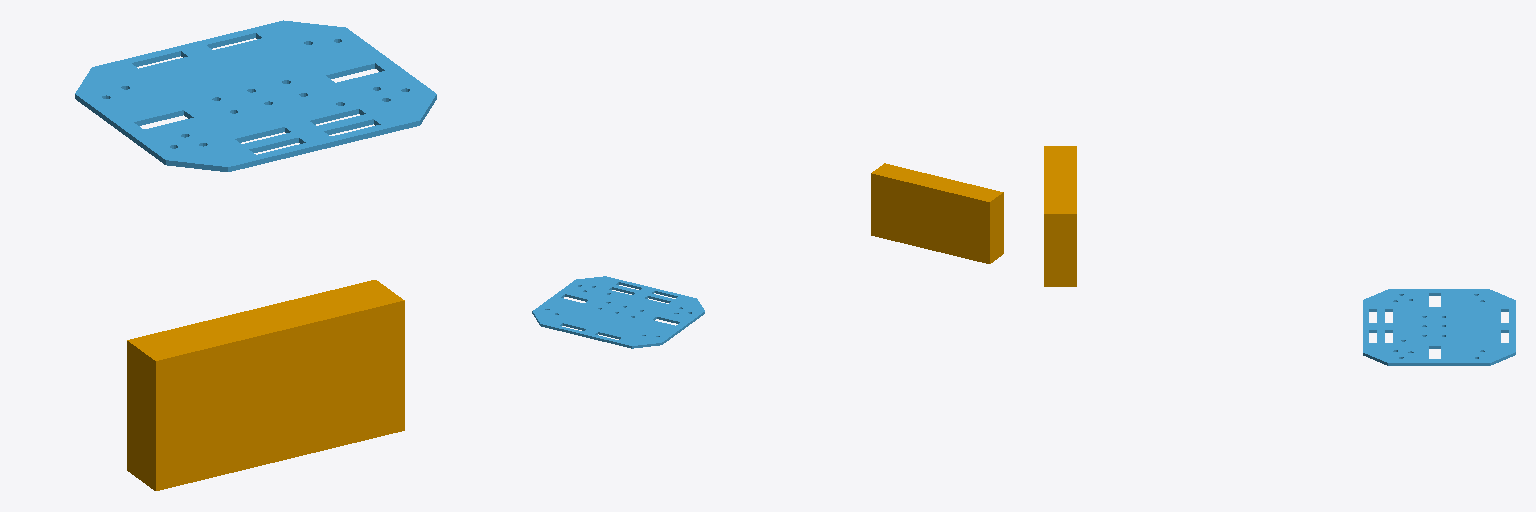
The robot description file, URDF, robot "bipedal":
<?xml version="1.0" ?>
<robot name="bipedal">

<material name="silver">
  <color rgba="0.700 0.700 0.700 1.000"/>
</material>

<material name="blue">
  <color rgba="0.700 0.100 0.700 1.000"/>
</material>

<link name="base_box">
  <inertial>
    
    <!--origin xyz="-0.07139043603557767 -0.16954551899156534 0.300032870177832" rpy="0 0 0"/-->
    <mass value="4"/>
    <inertia ixx="0.0108" ixy="0" ixz="0" iyy="0.0083" iyz="0" izz="0.0042"/>
     <!--inertia ixx="0.0021" ixy="0" ixz="0" iyy="0.0021" iyz="0" izz="0.0017"/-->
  </inertial>
  <visual>
    <origin xyz="0 -0 0" rpy="0 0 0"/>
    <geometry>
      <box size=".1 .02 .05"/>
    </geometry>
    <material name="silver"/>
    <material/>
  </visual>
  <collision>
    <origin xyz="0 -0 0" rpy="0 0 0"/>
    <geometry>
      <box size=".1 .02 .05"/>
    </geometry>
  </collision>
</link>

<link name="base_link">
  <inertial>
    <origin xyz="-0.07139043603557767 -0.16954551899156534 0.300032870177832" rpy="0 0 0"/>
    <mass value="0.0"/>
    <inertia ixx="9.334774124638429e-05" iyy="0.0001300594976052366e-05" izz="0.00022331485714314082e-05" ixy="-6.131072598073752e-08" iyz="-9.540979117872439e-18" ixz="7.806255641895632e-18"/>
  </inertial>
  <visual>
    <origin xyz="0 -0 0" rpy="0 0 0"/>
    <geometry>
      <mesh filename="meshes/base_link.stl" scale="0.001 0.001 0.001"/>
    </geometry>
    <material name="silver"/>
    <material/>
  </visual>
  <collision>
    <origin xyz="0 -0 0" rpy="0 0 0"/>
    <geometry>
      <mesh filename="meshes/base_link.stl" scale="0.001 0.001 0.001"/>
    </geometry>
  </collision>
</link>

<link name="angleL2">
  <inertial>
    <origin xyz="-7.310110415603699e-08 0.00019543773498767458 -0.012367894246249456" rpy="0 0 0"/>
    <mass value="0.055302620656788114"/>
    <inertia ixx="2.8853277508819435e-05" iyy="1.0107535652667272e-05" izz="2.3303786714633668e-05" ixy="1.6263032587282567e-19" iyz="1.794109458414829e-07" ixz="2.2442984970449942e-17"/>
  </inertial>
  <visual>
    <origin xyz="0.034621 0.197396 -0.259033" rpy="0 0 0"/>
    <geometry>
      <mesh filename="meshes/angleL2.stl" scale="0.001 0.001 0.001"/>
    </geometry>
    <material name="silver"/>
    <material/>
  </visual>
  <collision>
    <origin xyz="0.034621 0.197396 -0.259033" rpy="0 0 0"/>
    <geometry>
      <mesh filename="meshes/angleL2.stl" scale="0.001 0.001 0.001"/>
    </geometry>
  </collision>
</link>

<link name="angleR1">
  <inertial>
    <origin xyz="-7.310110577973816e-08 0.00019543773499539063 -0.01236789424624854" rpy="0 0 0"/>
    <mass value="0.055302620656792215"/>
    <inertia ixx="2.8853277508822037e-05" iyy="1.0107535652662501e-05" izz="2.330378671464668e-05" ixy="-4.336808689942018e-18" iyz="1.794109458393145e-07" ixz="2.5370330836160804e-17"/>
  </inertial>
  <visual>
    <origin xyz="0.111621 0.197396 -0.259233" rpy="0 0 0"/>
    <geometry>
      <mesh filename="meshes/angleR1.stl" scale="0.001 0.001 0.001"/>
    </geometry>
    <material name="silver"/>
    <material/>
  </visual>
  <collision>
    <origin xyz="0.111621 0.197396 -0.259233" rpy="0 0 0"/>
    <geometry>
      <mesh filename="meshes/angleR1.stl" scale="0.001 0.001 0.001"/>
    </geometry>
  </collision>
</link>

<link name="fixed_motorR_v11">
  <inertial>
    <origin xyz="0.00039183355538857656 0.016721166829037876 -0.005951317771388298" rpy="0 0 0"/>
    <mass value="0.3642794428368541"/>
    <inertia ixx="8.985014179405809e-05" iyy="0.00010326952603981546" izz="6.864312589224472e-05" ixy="-1.7544987531356582e-06" iyz="-6.087616118075068e-07" ixz="-2.0915034182871634e-06"/>
  </inertial>
  <visual>
    <origin xyz="0.111621 0.218396 -0.230233" rpy="0 0 0"/>
    <geometry>
      <mesh filename="meshes/fixed_motorR_v11.stl" scale="0.001 0.001 0.001"/>
    </geometry>
    <material name="silver"/>
    <material/>
  </visual>
  <collision>
    <origin xyz="0.111621 0.218396 -0.230233" rpy="0 0 0"/>
    <geometry>
      <mesh filename="meshes/fixed_motorR_v11.stl" scale="0.001 0.001 0.001"/>
    </geometry>
  </collision>
</link>

<link name="fixed_motorL_v1_11">
  <inertial>
    <origin xyz="0.0003918335553906166 0.016721166829029993 -0.005951317771388548" rpy="0 0 0"/>
    <mass value="0.3642794428368541"/>
    <inertia ixx="8.985014179405115e-05" iyy="0.00010326952603981199" izz="6.864312589224646e-05" ixy="-1.7544987531356582e-06" iyz="-6.087616118075068e-07" ixz="-2.091503418286296e-06"/>
  </inertial>
  <visual>
    <origin xyz="0.034621 0.218396 -0.230033" rpy="0 0 0"/>
    <geometry>
      <mesh filename="meshes/fixed_motorL_v1_11.stl" scale="0.001 0.001 0.001"/>
    </geometry>
    <material name="silver"/>
    <material/>
  </visual>
  <collision>
    <origin xyz="0.034621 0.218396 -0.230033" rpy="0 0 0"/>
    <geometry>
      <mesh filename="meshes/fixed_motorL_v1_11.stl" scale="0.001 0.001 0.001"/>
    </geometry>
  </collision>
</link>

<link name="knee_angleR_v11">
  <inertial>
    <origin xyz="0.021250423220924616 -4.0230865386292614e-07 -0.03382962134806375" rpy="0 0 0"/>
    <mass value="0.058088429592991084"/>
    <inertia ixx="2.9086068087361486e-05" iyy="5.066664926590579e-05" izz="2.629108909155695e-05" ixy="0.0" iyz="-8.673617379884035e-19" ixz="4.336808689942018e-18"/>
  </inertial>
  <visual>
    <origin xyz="0.130071 0.200632 -0.235936" rpy="0 0 0"/>
    <geometry>
      <mesh filename="meshes/knee_angleR_v11.stl" scale="0.001 0.001 0.001"/>
    </geometry>
    <material name="silver"/>
    <material/>
  </visual>
  <collision>
    <origin xyz="0.130071 0.200632 -0.235936" rpy="0 0 0"/>
    <geometry>
      <mesh filename="meshes/knee_angleR_v11.stl" scale="0.001 0.001 0.001"/>
    </geometry>
  </collision>
</link>

<link name="motor_kneeR_v11">
  <inertial>
    <origin xyz="3.0012713926955148e-05 -3.984803187417896e-07 -0.028119792088942303" rpy="0 0 0"/>
    <mass value="0.3655195920887556"/>
    <inertia ixx="0.00010105902722260321" iyy="0.00011795075956257985" izz="6.38235113882904e-05" ixy="1.7380392264287892e-11" iyz="-3.295933491409553e-11" ixz="-1.4133468966767704e-06"/>
  </inertial>
  <visual>
    <origin xyz="0.108821 0.200632 -0.177036" rpy="0 0 0"/>
    <geometry>
      <mesh filename="meshes/motor_kneeR_v11.stl" scale="0.001 0.001 0.001"/>
    </geometry>
    <material name="silver"/>
    <material/>
  </visual>
  <collision>
    <origin xyz="0.108821 0.200632 -0.177036" rpy="0 0 0"/>
    <geometry>
      <mesh filename="meshes/motor_kneeR_v11.stl" scale="0.001 0.001 0.001"/>
    </geometry>
  </collision>
</link>

<link name="knee_angleL1">
  <inertial>
    <origin xyz="-0.02124957677907323 -4.02308661523465e-07 -0.03382962134806419" rpy="0 0 0"/>
    <mass value="0.058088429592991084"/>
    <inertia ixx="2.9086068087362353e-05" iyy="5.066664926590579e-05" izz="2.6291089091557383e-05" ixy="0.0" iyz="0.0" ixz="4.065758146820642e-18"/>
  </inertial>
  <visual>
    <origin xyz="0.011221 0.200632 -0.235736" rpy="0 0 0"/>
    <geometry>
      <mesh filename="meshes/knee_angleL1.stl" scale="0.001 0.001 0.001"/>
    </geometry>
    <material name="silver"/>
    <material/>
  </visual>
  <collision>
    <origin xyz="0.011221 0.200632 -0.235736" rpy="0 0 0"/>
    <geometry>
      <mesh filename="meshes/knee_angleL1.stl" scale="0.001 0.001 0.001"/>
    </geometry>
  </collision>
</link>

<link name="below-kneeL_v11">
  <inertial>
    <origin xyz="-0.020749576779086787 -0.005508311892402112 -0.04589658108169638" rpy="0 0 0"/>
    <mass value="0.07171879062702044"/>
    <inertia ixx="7.614988197868298e-05" iyy="9.864979757538109e-05" izz="3.348288885569959e-05" ixy="2.6020852139652106e-18" iyz="2.427192941159735e-06" ixz="5.095750210681871e-18"/>
  </inertial>
  <visual>
    <origin xyz="0.089571 0.200632 -0.135436" rpy="0 0 0"/>
    <geometry>
      <mesh filename="meshes/below-kneeL_v11.stl" scale="0.001 0.001 0.001"/>
    </geometry>
    <material name="silver"/>
    <material/>
  </visual>
  <collision>
    <origin xyz="0.089571 0.200632 -0.135436" rpy="0 0 0"/>
    <geometry>
      <mesh filename="meshes/below-kneeL_v11.stl" scale="0.001 0.001 0.001"/>
    </geometry>
  </collision>
</link>

<link name="motor_kneeL1">
  <inertial>
    <origin xyz="-2.9166272081215805e-05 -4.0613699664460157e-07 -0.028119800958348012" rpy="0 0 0"/>
    <mass value="0.3655195920887555"/>
    <inertia ixx="0.00010105876708862635" iyy="0.00011795049942860299" izz="6.382351138828866e-05" ixy="1.7380391830607023e-11" iyz="7.413200088512983e-11" ixz="1.4133891378406791e-06"/>
  </inertial>
  <visual>
    <origin xyz="0.032471 0.200632 -0.176836" rpy="0 0 0"/>
    <geometry>
      <mesh filename="meshes/motor_kneeL1.stl" scale="0.001 0.001 0.001"/>
    </geometry>
    <material name="silver"/>
    <material/>
  </visual>
  <collision>
    <origin xyz="0.032471 0.200632 -0.176836" rpy="0 0 0"/>
    <geometry>
      <mesh filename="meshes/motor_kneeL1.stl" scale="0.001 0.001 0.001"/>
    </geometry>
  </collision>
</link>

<link name="below-kneeR_v1_11">
  <inertial>
    <origin xyz="0.020750423220910474 -0.005508311892410106 -0.04589658108170622" rpy="0 0 0"/>
    <mass value="0.07171879062702044"/>
    <inertia ixx="7.614988197868298e-05" iyy="9.864979757538109e-05" izz="3.3482888855699156e-05" ixy="2.3852447794681098e-18" iyz="2.4271929411595183e-06" ixz="8.185726402265558e-18"/>
  </inertial>
  <visual>
    <origin xyz="0.051721 0.200632 -0.135236" rpy="0 0 0"/>
    <geometry>
      <mesh filename="meshes/below-kneeR_v1_11.stl" scale="0.001 0.001 0.001"/>
    </geometry>
    <material name="silver"/>
    <material/>
  </visual>
  <collision>
    <origin xyz="0.051721 0.200632 -0.135236" rpy="0 0 0"/>
    <geometry>
      <mesh filename="meshes/below-kneeR_v1_11.stl" scale="0.001 0.001 0.001"/>
    </geometry>
  </collision>
</link>

<link name="lower_motorR_v11">
  <inertial>
    <origin xyz="0.022629463427445873 -0.0015901334431804304 -0.011247770886518745" rpy="0 0 0"/>
    <mass value="0.3723917469007978"/>
    <inertia ixx="9.532977742557694e-05" iyy="0.00010575949836121555" izz="7.439031097003154e-05" ixy="-1.7188906561993456e-08" iyz="1.806096631585142e-06" ixz="1.437447658839434e-06"/>
  </inertial>
  <visual>
    <origin xyz="0.131071 0.200632 -0.035436" rpy="0 0 0"/>
    <geometry>
      <mesh filename="meshes/lower_motorR_v11.stl" scale="0.001 0.001 0.001"/>
    </geometry>
    <material name="silver"/>
    <material/>
  </visual>
  <collision>
    <origin xyz="0.131071 0.200632 -0.035436" rpy="0 0 0"/>
    <geometry>
      <mesh filename="meshes/lower_motorR_v11.stl" scale="0.001 0.001 0.001"/>
    </geometry>
  </collision>
</link>

<link name="lower_motorR_v1_11">
  <inertial>
    <origin xyz="0.02262946342744819 -0.001590133443188202 -0.011247770886528494" rpy="0 0 0"/>
    <mass value="0.3723917469007978"/>
    <inertia ixx="9.532977742557694e-05" iyy="0.00010575949836121642" izz="7.439031097003154e-05" ixy="-1.718890656459554e-08" iyz="1.8060966315855756e-06" ixz="1.4374476588414399e-06"/>
  </inertial>
  <visual>
    <origin xyz="0.051721 0.200632 -0.035236" rpy="0 0 0"/>
    <geometry>
      <mesh filename="meshes/lower_motorR_v1_11.stl" scale="0.001 0.001 0.001"/>
    </geometry>
    <material name="silver"/>
    <material/>
  </visual>
  <collision>
    <origin xyz="0.051721 0.200632 -0.035236" rpy="0 0 0"/>
    <geometry>
      <mesh filename="meshes/lower_motorR_v1_11.stl" scale="0.001 0.001 0.001"/>
    </geometry>
  </collision>
</link>

<link name="feetR_v11">
  <inertial>
    <origin xyz="0.004049519314478431 0.017461467081004323 -0.029474003512867115" rpy="0 0 0"/>
    <mass value="0.17675714575126572"/>
    <inertia ixx="0.0001797183170220715" iyy="7.930603923658351e-05" izz="0.00021805293391331977" ixy="1.155353889772167e-06" iyz="-5.520206361789813e-07" ixz="3.6865173211963022e-06"/>
  </inertial>
  <visual>
    <origin xyz="0.108471 0.221432 -0.035436" rpy="0 0 0"/>
    <geometry>
      <mesh filename="meshes/feetR_v11.stl" scale="0.001 0.001 0.001"/>
    </geometry>
    <material name="silver"/>
    <material/>
  </visual>
  <collision>
    <origin xyz="0.108471 0.221432 -0.035436" rpy="0 0 0"/>
    <geometry>
      <mesh filename="meshes/feetR_v11.stl" scale="0.001 0.001 0.001"/>
    </geometry>
  </collision>
</link>

<link name="feetLv1_11">
  <inertial>
    <origin xyz="4.951931448205285e-05 0.017461467080996357 -0.029474003512876445" rpy="0 0 0"/>
    <mass value="0.17675714575126572"/>
    <inertia ixx="0.00017971831702207064" iyy="7.930603923658326e-05" izz="0.00021805293391331717" ixy="1.1553538897730344e-06" iyz="-5.520206361792795e-07" ixz="3.686517321193287e-06"/>
  </inertial>
  <visual>
    <origin xyz="0.027521 0.221432 -0.035236" rpy="0 0 0"/>
    <geometry>
      <mesh filename="meshes/feetLv1_11.stl" scale="0.001 0.001 0.001"/>
    </geometry>
    <material name="silver"/>
    <material/>
  </visual>
  <collision>
    <origin xyz="0.027521 0.221432 -0.035236" rpy="0 0 0"/>
    <geometry>
      <mesh filename="meshes/feetLv1_11.stl" scale="0.001 0.001 0.001"/>
    </geometry>
  </collision>
</link>

<link name="motorR_11">
  <inertial>
    <origin xyz="-8.078857149228236e-05 0.012567249044730222 -0.020044065037984393" rpy="0 0 0"/>
    <mass value="0"/>
    <inertia ixx="9.777785485510365e-05" iyy="5.235895358417578e-05" izz="8.310749541756701e-05" ixy="-2.591068321055115e-07" iyz="-2.1957483612028428e-06" ixz="-2.9020180450541055e-07"/>
  </inertial>
  <visual>
    <origin xyz="0.109871 0.187896 -0.299033" rpy="0 0 0"/>
    <geometry>
      <mesh filename="meshes/motorR_11.stl" scale="0.001 0.001 0.001"/>
    </geometry>
    <material name="silver"/>
    <material/>
  </visual>
  <collision>
    <origin xyz="0.109871 0.187896 -0.299033" rpy="0 0 0"/>
    <geometry>
      <mesh filename="meshes/motorR_11.stl" scale="0.001 0.001 0.001"/>
    </geometry>
  </collision>
</link>

<link name="motorL_1">
  <inertial>
    <origin xyz="-8.078823321150397e-05 0.012567249339670683 -0.020044064557731722" rpy="0 0 0"/>
    <mass value="0"/>
    <inertia ixx="9.777783053127598e-05" iyy="5.235894220499346e-05" izz="8.310747928435419e-05" ixy="-2.591007643082052e-07" iyz="-2.195755937496602e-06" ixz="-2.9020329900915007e-07"/>
  </inertial>
  <visual>
    <origin xyz="0.032871 0.187896 -0.299033" rpy="0 0 0"/>
    <geometry>
      <mesh filename="meshes/motorL_1.stl" scale="0.001 0.001 0.001"/>
    </geometry>
    <material name="silver"/>
    <material/>
  </visual>
  <collision>
    <origin xyz="0.032871 0.187896 -0.299033" rpy="0 0 0"/>
    <geometry>
      <mesh filename="meshes/motorL_1.stl" scale="0.001 0.001 0.001"/>
    </geometry>
  </collision>
</link>

<joint name="base_joint" type="fixed">
  <!--origin xyz="-0.07139043603557767 -0.16954551899156534 0.300032870177832" rpy="0 0 0"/-->
  <origin xyz="-0.07139043603557767 -0.19954551899156534 0.325032870177832" rpy="0 0 0"/>
  <parent link="base_link"/>
  <child link="base_box"/>
</joint>

<joint name="motorL_joint" type="continuous">
  <origin xyz="-0.00175 -0.0095 -0.04" rpy="0 0 0"/>
  <parent link="motorL_1"/>
  <child link="angleL2"/>
  <axis xyz="0.0 -0.0 -1.0"/>
  <limit upper="1.349066" lower="-1.349066" effort="100" velocity="100"/>
</joint>


<joint name="motorR_joint" type="continuous">
  <origin xyz="-0.00175 -0.0095 -0.0398" rpy="0 0 0"/>
  <parent link="motorR_11"/>
  <child link="angleR1"/>
  <axis xyz="0.0 -0.0 -1.0"/>
  <limit upper="1.349066" lower="-1.349066" effort="100" velocity="100"/>
</joint>

<joint name="Rigid38" type="fixed">
  <origin xyz="0.0 -0.021 -0.029" rpy="0 0 0"/>
  <parent link="angleR1"/>
  <child link="fixed_motorR_v11"/>
</joint>

<joint name="Rigid42" type="fixed">
  <origin xyz="0.0 -0.021 -0.029" rpy="0 0 0"/>
  <parent link="angleL2"/>
  <child link="fixed_motorL_v1_11"/>
</joint>

<joint name="thighR_joint" type="revolute">
  <origin xyz="-0.01845 0.017764 0.005703" rpy="0 0 0"/>
  <parent link="fixed_motorR_v11"/>
  <child link="knee_angleR_v11"/>
  <axis xyz="-1.0 0.0 0.0"/>
  <limit upper="1.349066" lower="-1.349066" effort="100" velocity="100"/>
</joint>

<joint name="Rigid56" type="fixed">
  <origin xyz="0.02125 0.0 -0.0589" rpy="0 0 0"/>
  <parent link="knee_angleR_v11"/>
  <child link="motor_kneeR_v11"/>
</joint>

<joint name="thighL_joint" type="revolute">
  <origin xyz="0.0234 0.017764 0.005703" rpy="0 0 0"/>
  <!-- <origin xyz="-0.01845 0.017764 0.005703" rpy="0 0 0"/> -->
  <parent link="fixed_motorL_v1_11"/>
  <child link="knee_angleL1"/>
  <axis xyz="1.0 0.0 0.0"/>
  <limit upper="1.57" lower="-0" effort="100" velocity="100"/>
</joint>

<joint name="kneeR_joint" type="continuous">
  <origin xyz="0.01925 0.0 -0.0416" rpy="0 0 0"/>
  <parent link="motor_kneeR_v11"/>
  <child link="below-kneeL_v11"/>
  <axis xyz="-1.0 0.0 -0.0"/>
  <limit upper="0" lower="-1.57" effort="100" velocity="100"/>
</joint>


<joint name="Rigid61" type="fixed">
  <origin xyz="-0.02125 0.0 -0.0589" rpy="0 0 0"/>
  <parent link="knee_angleL1"/>
  <child link="motor_kneeL1"/>
</joint>

<joint name="kneeL_joint" type="continuous">
  <origin xyz="-0.01925 0.0 -0.0416" rpy="0 0 0"/>
  <parent link="motor_kneeL1"/>
  <child link="below-kneeR_v1_11"/>
  <axis xyz="1.0 -0.0 0.0"/>
  <limit upper="1.57" lower="0" effort="100" velocity="100"/>
</joint>

<transmission name="kneeL_joint_tran">
  <type>transmission_interface/SimpleTransmission</type>
  <joint name="kneeL_joint">
    <hardwareInterface>PositionJointInterface</hardwareInterface>
  </joint>
  <actuator name="kneeL_joint_actr">
    <hardwareInterface>PositionJointInterface</hardwareInterface>
    <mechanicalReduction>1</mechanicalReduction>
  </actuator>
</transmission>

<joint name="feetR_joint" type="continuous">
  <origin xyz="-0.0415 0.0 -0.1" rpy="0 0 0"/>
  <parent link="below-kneeL_v11"/>
  <child link="lower_motorR_v11"/>
  <axis xyz="-1.0 0.0 -0.0"/>
</joint>

<transmission name="feetR_joint_tran">
  <type>transmission_interface/SimpleTransmission</type>
  <joint name="feetR_joint">
    <hardwareInterface>PositionJointInterface</hardwareInterface>
  </joint>
  <actuator name="feetR_joint_actr">
    <hardwareInterface>PositionJointInterface</hardwareInterface>
    <mechanicalReduction>1</mechanicalReduction>
  </actuator>
</transmission>

<joint name="feetL_joint" type="continuous">
  <origin xyz="0.0 0.0 -0.1" rpy="0 0 0"/>
  <parent link="below-kneeR_v1_11"/>
  <child link="lower_motorR_v1_11"/>
  <axis xyz="1.0 0.0 -0.0"/>
</joint>
<transmission name="feetL_joint_tran">
  <type>transmission_interface/SimpleTransmission</type>
  <joint name="feetL_joint">
    <hardwareInterface>PositionJointInterface</hardwareInterface>
  </joint>
  <actuator name="feetL_joint_actr">
    <hardwareInterface>PositionJointInterface</hardwareInterface>
    <mechanicalReduction>1</mechanicalReduction>
  </actuator>
</transmission>

<joint name="Rigid66" type="fixed">
  <origin xyz="0.0226 -0.0208 0.0" rpy="0 0 0"/>
  <parent link="lower_motorR_v11"/>
  <child link="feetR_v11"/>
</joint>

<joint name="Rigid67" type="fixed">
  <origin xyz="0.0242 -0.0208 0.0" rpy="0 0 0"/>
  <parent link="lower_motorR_v1_11"/>
  <child link="feetLv1_11"/>
</joint>

<joint name="Rigid68" type="fixed">
  <origin xyz="-0.109871 -0.187896 0.299033" rpy="0 0 0"/>
  <parent link="base_link"/>
  <child link="motorR_11"/>
</joint>

<joint name="Rigid69" type="fixed">
  <origin xyz="-0.032871 -0.187896 0.299033" rpy="0 0 0"/>
  <parent link="base_link"/>
  <child link="motorL_1"/>
</joint>

</robot>

--- What the picture shows (computed from the rendered views, not written in the file) ---
The picture shows the robot from 3 angles, left to right: view 1: azimuth 30°, elevation 25°; view 2: azimuth 150°, elevation 25°; view 3: azimuth 270°, elevation 25°; orthographic projection.
Model bipedal with 18 links and 17 joints (2 revolute, 6 continuous, 9 fixed), rooted at base_link, posed every joint at zero.
Links seen in each view (by area): view 1: base_box, base_link; view 2: base_box, base_link; view 3: base_link, base_box.
Boxes of the visible links, x1,y1,x2,y2 form: base_box: (127,280,404,490); base_link: (75,20,436,171); base_box: (871,163,1003,263); base_link: (532,276,704,348); base_link: (1363,289,1515,365); base_box: (1044,146,1076,286).
Size in the robot's own frame: 0.2365 by 0.2929 by 0.05 metres.
Meshes: 17 distinct files referenced, 1 mesh visuals loaded (1 binary STL); not drawn: 16 (reference not matched to a file when rendering).